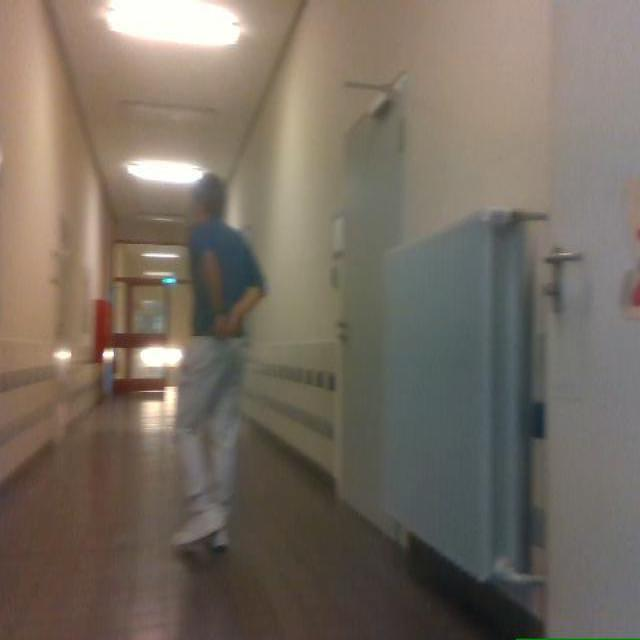humans: (174, 173, 264, 548)
